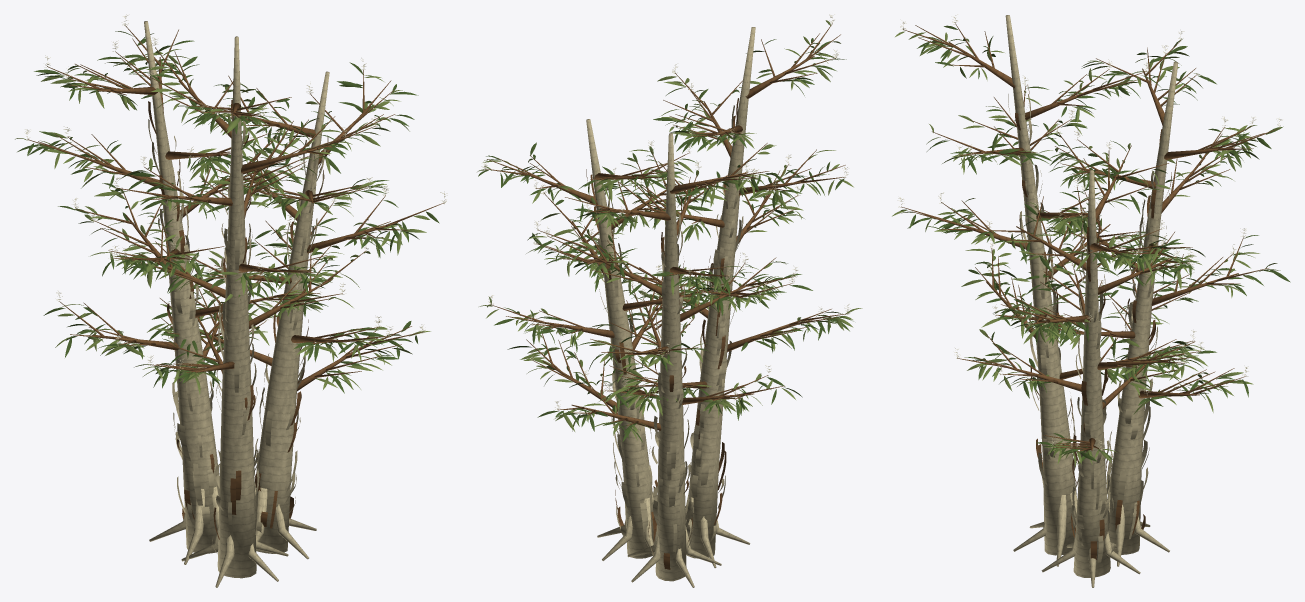
File: 03_paperbark_v3_cluster.glb
3 renders of one model, left to right at view 1: azimuth 30°, elevation 25°; view 2: azimuth 150°, elevation 25°; view 3: azimuth 270°, elevation 25°, orthographic. The views are drawn at different scales.
Visible parts, largest first — view 1: Paperbark variant | distinct trunks and branches.001, Paperbark variant | narrow evergreen foliage.001, Paperbark variant | curled papery exfoliating bark.001, Paperbark variant | cream bottlebrush flowers.001; view 2: Paperbark variant | distinct trunks and branches.001, Paperbark variant | narrow evergreen foliage.001, Paperbark variant | curled papery exfoliating bark.001, Paperbark variant | cream bottlebrush flowers.001; view 3: Paperbark variant | distinct trunks and branches.001, Paperbark variant | narrow evergreen foliage.001, Paperbark variant | curled papery exfoliating bark.001, Paperbark variant | cream bottlebrush flowers.001.
Boxes of the visible parts, left/top/right/bottom form: Paperbark variant | distinct trunks and branches.001: left=27, top=21, right=443, bottom=587; Paperbark variant | narrow evergreen foliage.001: left=15, top=31, right=439, bottom=394; Paperbark variant | curled papery exfoliating bark.001: left=148, top=99, right=328, bottom=553; Paperbark variant | cream bottlebrush flowers.001: left=25, top=14, right=447, bottom=370; Paperbark variant | distinct trunks and branches.001: left=485, top=23, right=847, bottom=587; Paperbark variant | narrow evergreen foliage.001: left=477, top=20, right=862, bottom=442; Paperbark variant | curled papery exfoliating bark.001: left=586, top=98, right=743, bottom=569; Paperbark variant | cream bottlebrush flowers.001: left=481, top=14, right=850, bottom=409; Paperbark variant | distinct trunks and branches.001: left=901, top=15, right=1279, bottom=587; Paperbark variant | narrow evergreen foliage.001: left=892, top=25, right=1290, bottom=465; Paperbark variant | curled papery exfoliating bark.001: left=1008, top=84, right=1171, bottom=563; Paperbark variant | cream bottlebrush flowers.001: left=898, top=14, right=1282, bottom=450.
Bounding box in the file's own units: 4.81 × 7.22 × 5.02.
5 materials, 4 textured.
